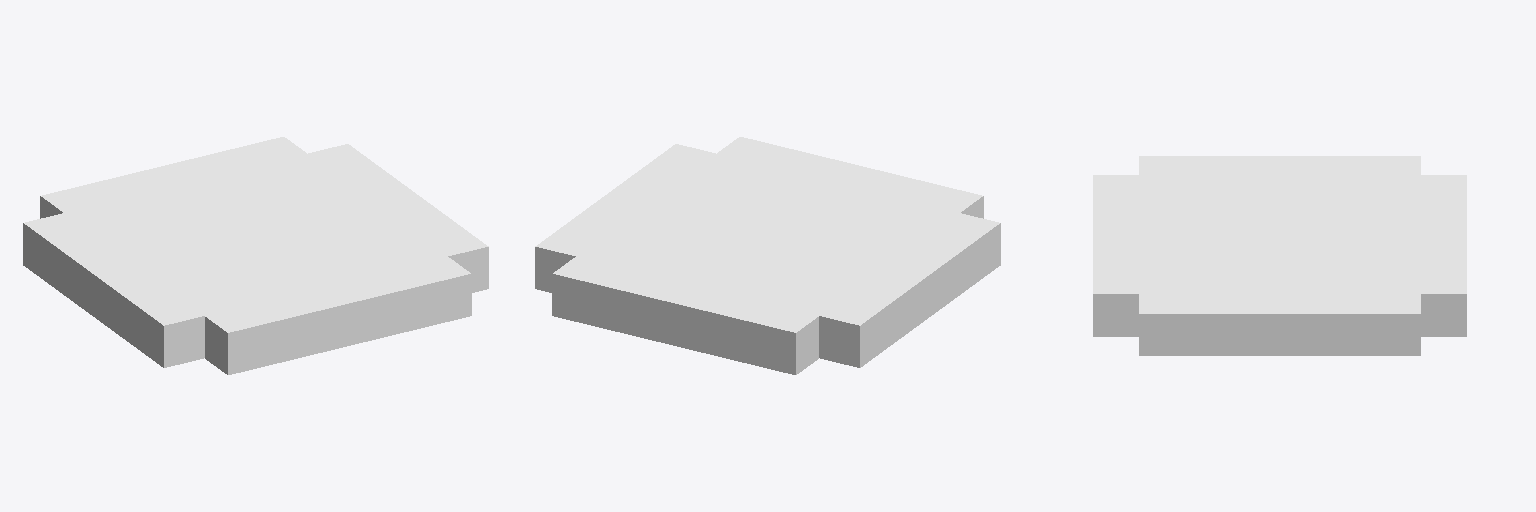
The model's file is Blue-0-Blue.obj.
The picture shows the model from 3 angles: view 1: azimuth 30°, elevation 25°; view 2: azimuth 150°, elevation 25°; view 3: azimuth 270°, elevation 25°; orthographic projection.
Parts seen in each view (by area): view 1: Blue; view 2: Blue; view 3: Blue.
Part boxes in pixels (left/top/right/bottom): Blue: left=23, top=137, right=488, bottom=374; Blue: left=535, top=137, right=1000, bottom=374; Blue: left=1093, top=156, right=1466, bottom=355.
Size of the model in its own units: 0.8 by 0.1 by 0.8.